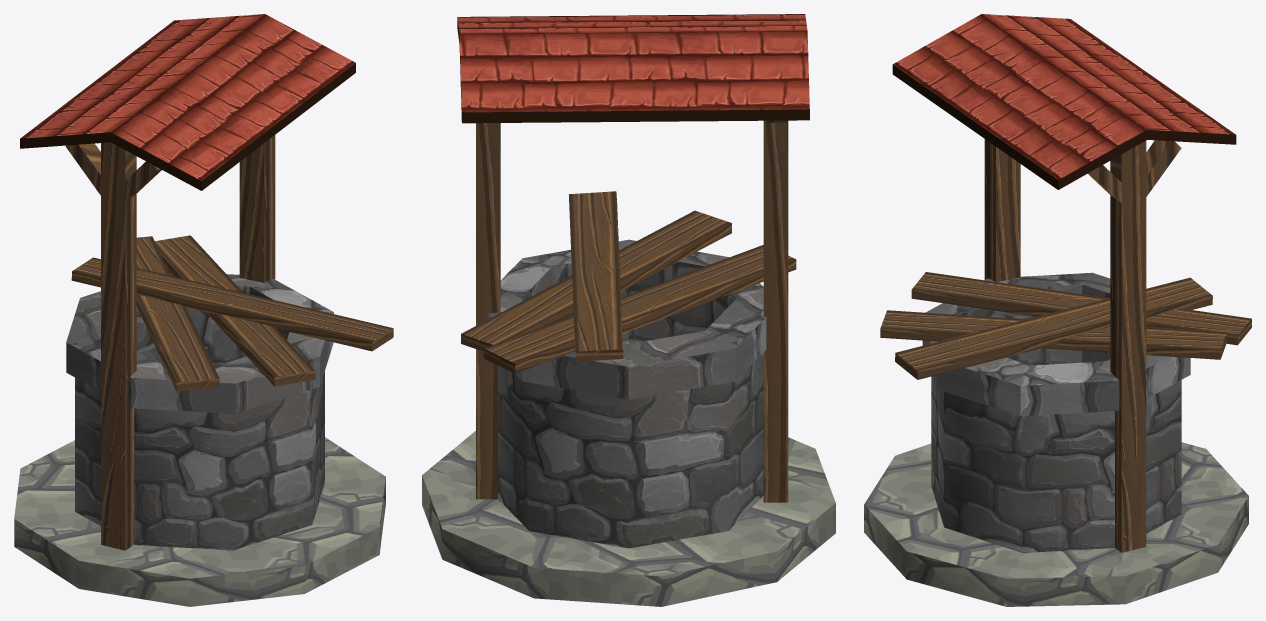
The model's file is well.FBX.
3 renders of one model, left to right at view 1: azimuth 30°, elevation 25°; view 2: azimuth 150°, elevation 25°; view 3: azimuth 270°, elevation 25°, orthographic. The views are drawn at different scales.
Parts seen in each view (by area): view 1: Cylinder002, Box006, Cylinder001, Box009, Box011, Box010, Box002, Box004; view 2: Cylinder002, Box006, Cylinder001, Box009, Box002, Box011, Box004, Box010; view 3: Cylinder002, Box006, Cylinder001, Box004, Box011, Box002, Box010, Box009.
Boxes of the visible parts, x1,y1,x2,y2 form: Cylinder002: (66,273,333,550); Box006: (20,14,355,190); Cylinder001: (14,437,385,606); Box009: (65,142,161,550); Box011: (71,257,393,351); Box010: (155,235,315,386); Box002: (136,236,219,391); Box004: (239,135,275,282); Cylinder002: (488,239,766,548); Box006: (457,14,809,123); Cylinder001: (422,431,835,606); Box009: (763,120,788,502); Box002: (483,245,796,373); Box011: (568,191,623,361); Box004: (476,123,500,499); Box010: (461,210,731,351); Cylinder002: (922,272,1190,552); Box006: (892,14,1236,189); Cylinder001: (864,442,1248,606); Box004: (1088,140,1181,552); Box011: (895,277,1212,379); Box002: (911,272,1251,345); Box010: (880,310,1226,359); Box009: (984,139,1020,281).
Bounding box in the file's own units: 37.94 × 49.02 × 38.07.
Materials: 12 (8 with a texture image).
